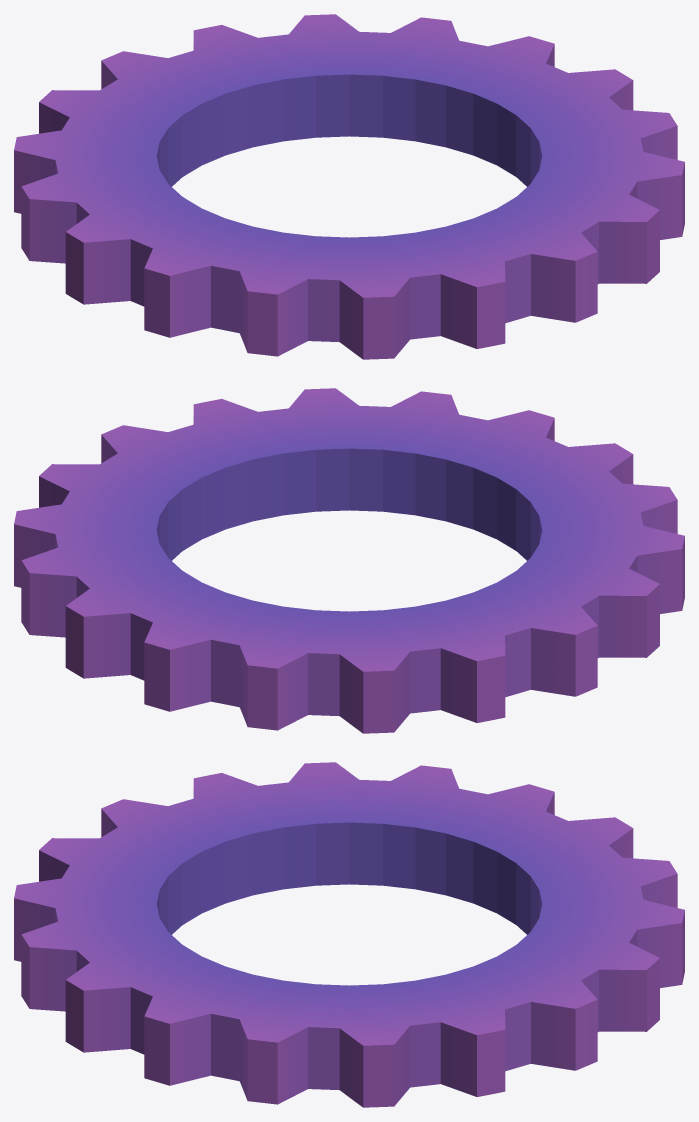
File: gear3.fbx
The picture shows the model from 3 angles, top to bottom: view 1: azimuth 30°, elevation 25°; view 2: azimuth 150°, elevation 25°; view 3: azimuth 270°, elevation 25°; orthographic projection.
Parts seen in each view (by area): view 1: gear3; view 2: gear3; view 3: gear3.
Part boxes in pixels (x1,y1,x2,y2): gear3: [14, 14, 684, 359]; gear3: [14, 388, 684, 733]; gear3: [14, 762, 684, 1107].
Size of the model in its own units: 304 by 30.98 by 304.
Materials: 1 (1 with a texture image).
